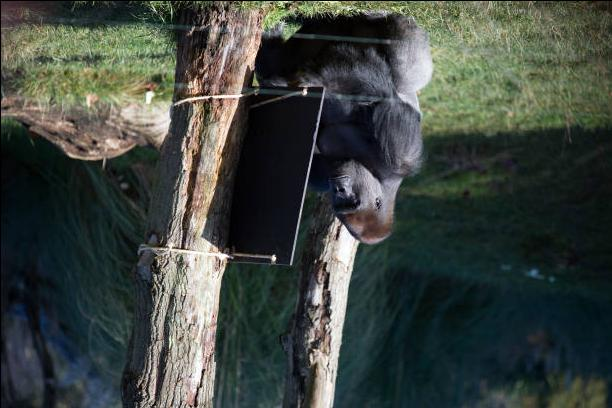gorille_Autres: (313, 27, 441, 266)
